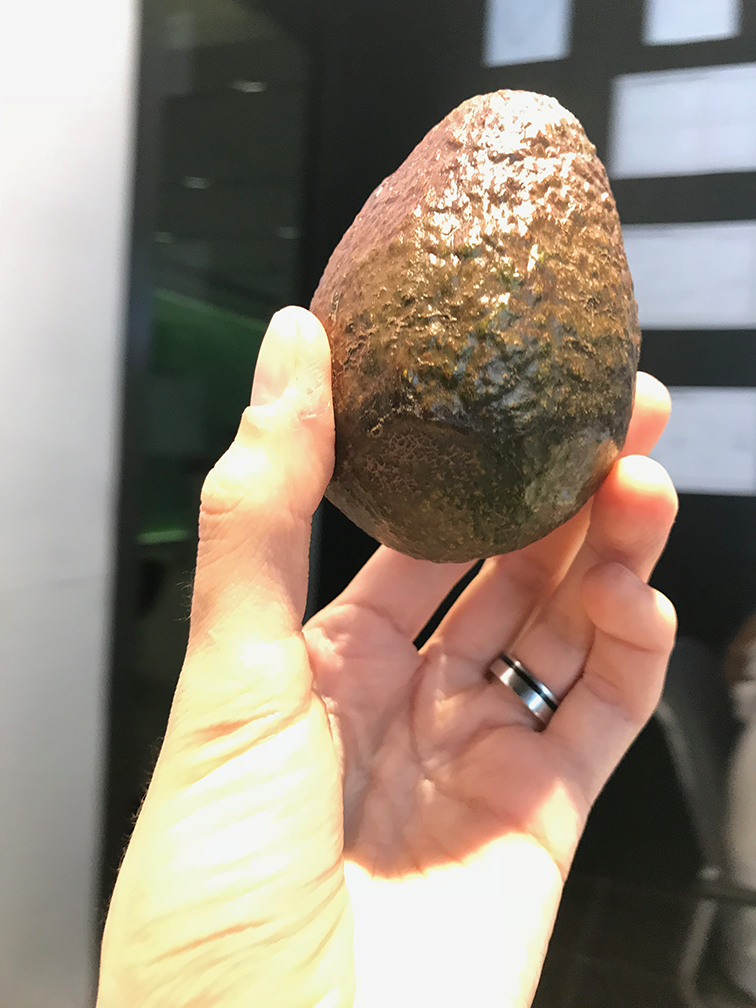avocado: (310, 78, 635, 564)
